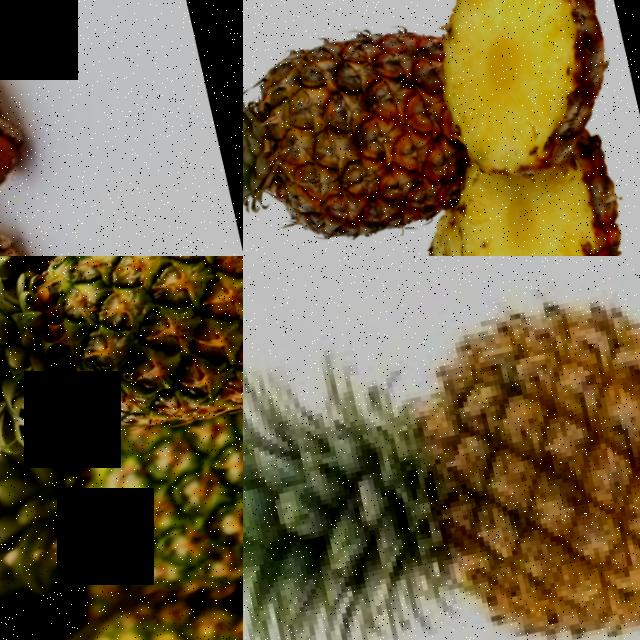pineapple: (332, 263, 640, 640), (243, 2, 480, 256), (4, 394, 243, 630), (0, 256, 243, 465), (0, 554, 243, 640)
